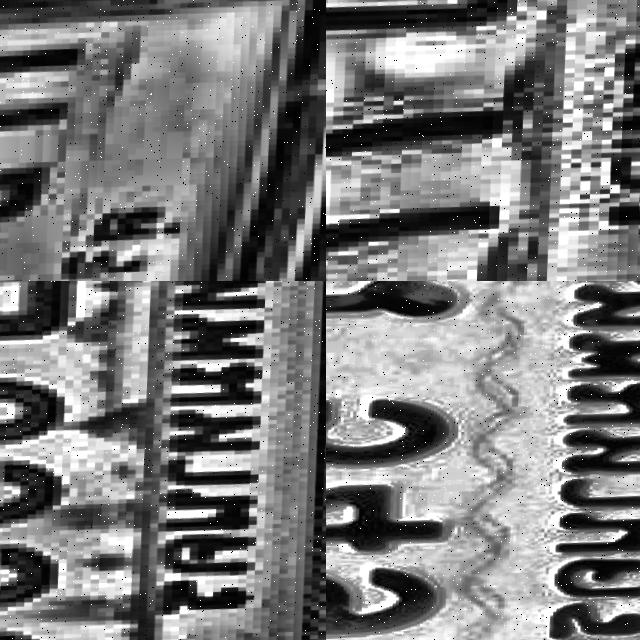license-plate: (0, 281, 326, 640), (326, 281, 640, 640), (326, 0, 640, 281), (0, 0, 313, 281)
